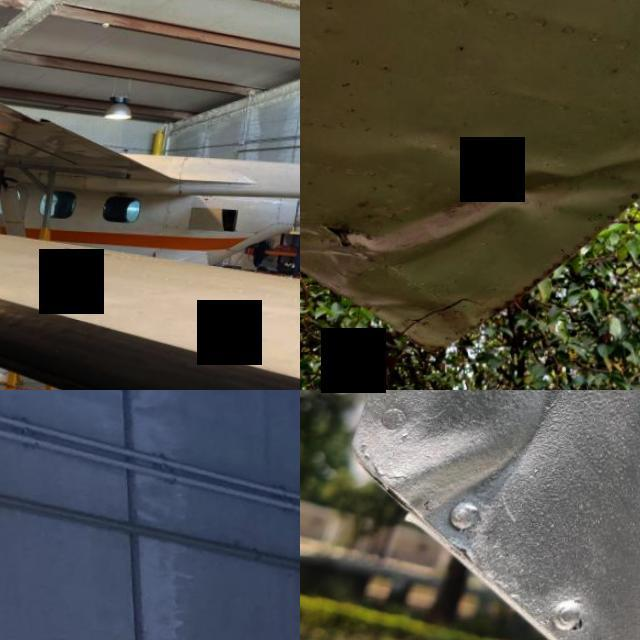Crack: (340, 223, 390, 244)
Dent: (350, 120, 640, 272), (356, 390, 587, 541), (358, 282, 502, 352), (300, 176, 332, 259)
